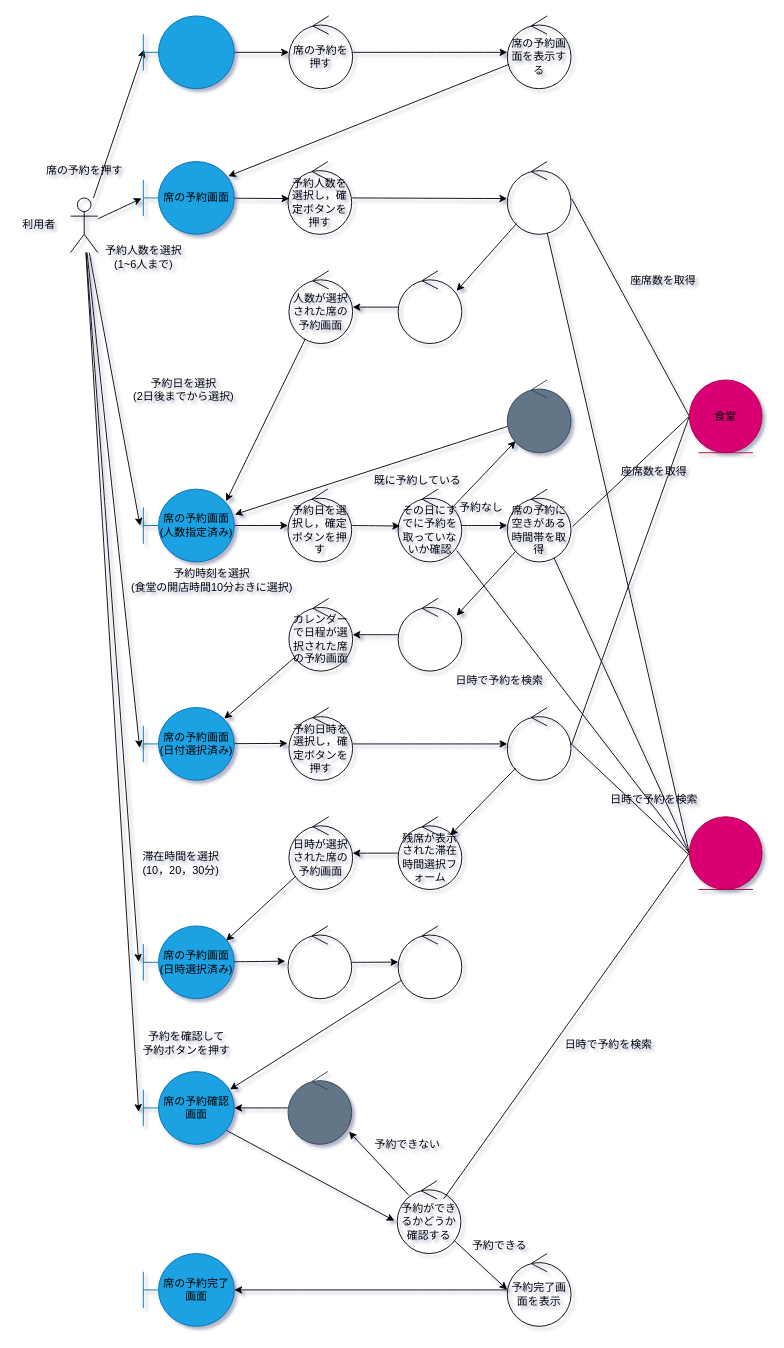
Image size: 784x1348. Some labels were removed from this diagram. Each missing label, with the box of its shape:
2日後までのうち人数分空きがある日付を計算: (506, 161, 571, 234)
ホーム画面: (142, 15, 234, 89)
予約: (688, 816, 762, 890)
予約できないエラー: (287, 1071, 352, 1144)
予約できる滞在時間を計算: (506, 707, 571, 780)
予約確認画面を表示: (397, 925, 462, 999)
既に予約してるエラー: (506, 379, 571, 453)
残席が表示されたカレンダーフォーム: (397, 270, 462, 344)
残席が表示された時間帯選択フォーム: (397, 597, 462, 671)
滞在時間を選択し，確定ボタンを押す: (287, 925, 352, 999)
